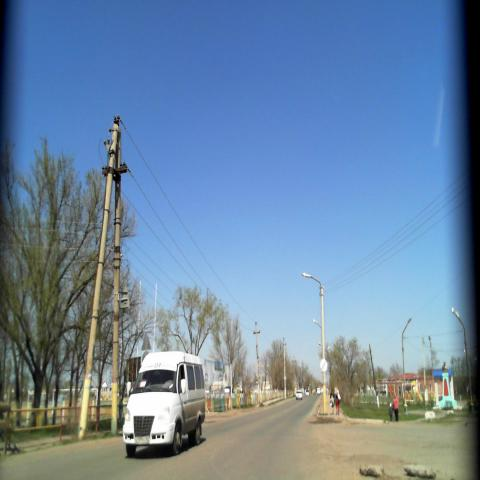3_31: (319, 357, 329, 374)
